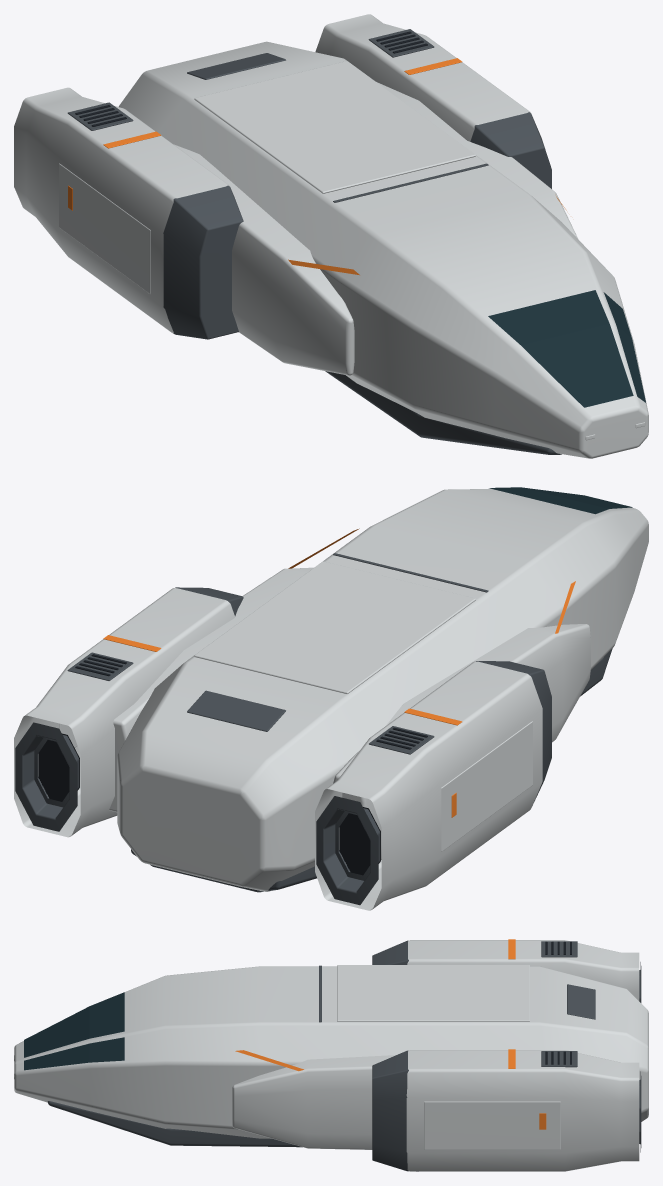
Rendered from MainMenuShip.fbx.
3 renders of one model, top to bottom at view 1: azimuth 30°, elevation 25°; view 2: azimuth 150°, elevation 25°; view 3: azimuth 270°, elevation 25°, orthographic. The views are drawn at different scales.
Parts seen in each view (by area): view 1: GEO_Hull, GEO_Thruster_L, GEO_DorsalPanel, GEO_Shoulder_L, GEO_EngineCollar_L, GEO_Thruster_R, GEO_CockpitGlass, GEO_EngineSidePanel_L, GEO_Belly, GEO_EngineCollar_R, GEO_Shoulder_R, GEO_CockpitGlass_R (+3 smaller); view 2: GEO_Hull, GEO_Thruster_L, GEO_DorsalPanel, GEO_Thruster_R, GEO_Shoulder_L, GEO_EngineSidePanel_L, GEO_ExhaustRecess_R, GEO_ExhaustRecess_L, GEO_Shoulder_R, GEO_RearAccess, GEO_ExhaustDark_L, GEO_ExhaustDark_R (+5 smaller); view 3: GEO_Hull, GEO_Thruster_R, GEO_Shoulder_R, GEO_DorsalPanel, GEO_EngineSidePanel_R, GEO_Thruster_L, GEO_EngineCollar_R, GEO_CockpitGlass, GEO_Belly, GEO_CockpitGlass_R, GEO_RearAccess, GEO_EngineCollar_L (+2 smaller).
Boxes of the visible parts, x1,y1,x2,y2 form: GEO_Hull: (118, 41, 648, 458); GEO_Thruster_L: (14, 87, 234, 333); GEO_DorsalPanel: (194, 61, 475, 193); GEO_Shoulder_L: (174, 144, 354, 375); GEO_EngineCollar_L: (163, 185, 243, 339); GEO_Thruster_R: (315, 14, 542, 141); GEO_CockpitGlass: (488, 290, 633, 407); GEO_EngineSidePanel_L: (59, 163, 150, 293); GEO_Belly: (325, 371, 561, 454); GEO_EngineCollar_R: (470, 112, 551, 188); GEO_Shoulder_R: (376, 82, 578, 239); GEO_CockpitGlass_R: (603, 292, 645, 402); GEO_Hull: (117, 489, 648, 891); GEO_Thruster_L: (315, 661, 542, 910); GEO_DorsalPanel: (194, 561, 475, 693); GEO_Thruster_R: (14, 588, 234, 837); GEO_Shoulder_L: (333, 624, 590, 859); GEO_EngineSidePanel_L: (441, 721, 532, 851); GEO_ExhaustRecess_R: (15, 722, 79, 831); GEO_ExhaustRecess_L: (316, 796, 380, 905); GEO_Shoulder_R: (109, 567, 313, 812); GEO_RearAccess: (187, 690, 285, 731); GEO_ExhaustDark_L: (339, 807, 380, 875); GEO_ExhaustDark_R: (38, 733, 79, 801); GEO_Hull: (14, 966, 648, 1138); GEO_Thruster_R: (406, 1050, 639, 1171); GEO_Shoulder_R: (232, 1055, 395, 1149); GEO_DorsalPanel: (337, 965, 529, 1021); GEO_EngineSidePanel_R: (424, 1101, 560, 1149); GEO_Thruster_L: (407, 940, 639, 1000); GEO_EngineCollar_R: (372, 1050, 418, 1171); GEO_CockpitGlass: (24, 992, 124, 1057); GEO_Belly: (47, 1101, 302, 1147); GEO_CockpitGlass_R: (24, 1037, 124, 1070); GEO_RearAccess: (567, 984, 595, 1019); GEO_EngineCollar_L: (372, 940, 408, 964).
Bounding box in the file's own units: 1187 × 509 × 2271.
